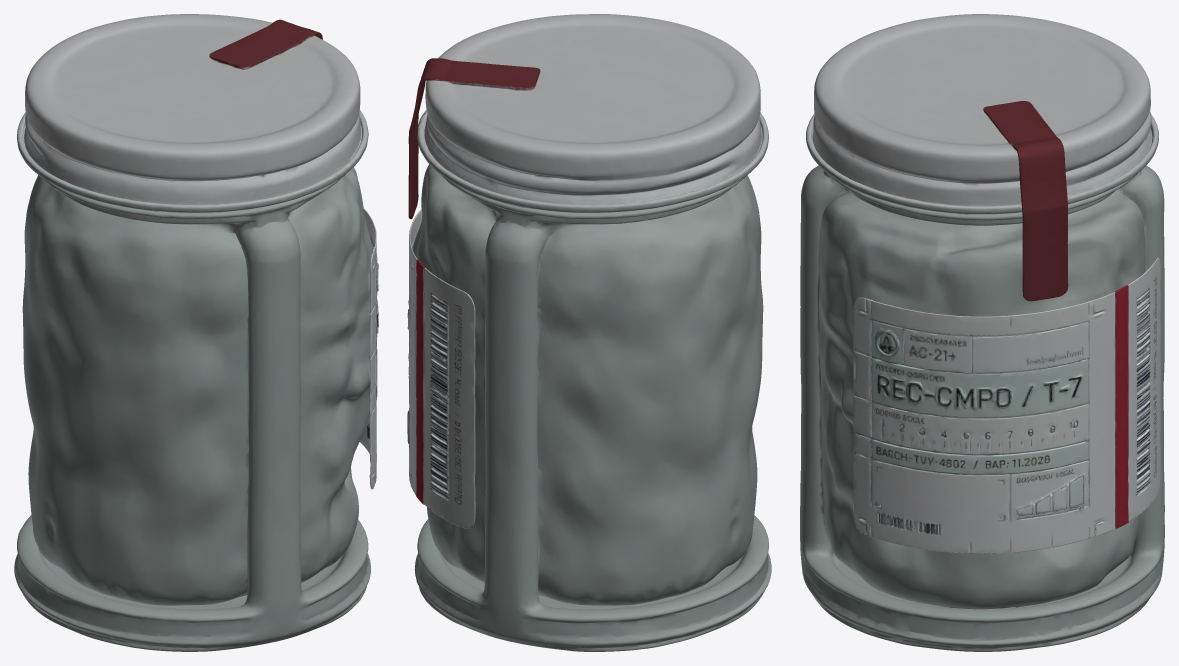
Rendered from silence.glb.
3 renders of one model, left to right at view 1: azimuth 30°, elevation 25°; view 2: azimuth 150°, elevation 25°; view 3: azimuth 270°, elevation 25°, orthographic.
Visible parts, largest first — view 1: tripo_node_59a4e8c8-7ae9-4357-9528-78b1c21a7b72; view 2: tripo_node_59a4e8c8-7ae9-4357-9528-78b1c21a7b72; view 3: tripo_node_59a4e8c8-7ae9-4357-9528-78b1c21a7b72.
Boxes of the visible parts, <box> form: tripo_node_59a4e8c8-7ae9-4357-9528-78b1c21a7b72: <box>14,14,378,651</box>; tripo_node_59a4e8c8-7ae9-4357-9528-78b1c21a7b72: <box>407,14,771,651</box>; tripo_node_59a4e8c8-7ae9-4357-9528-78b1c21a7b72: <box>800,14,1164,651</box>.
Bounding box in the file's own units: 0.6639 × 1 × 0.6618.
1 material, 1 textured.
